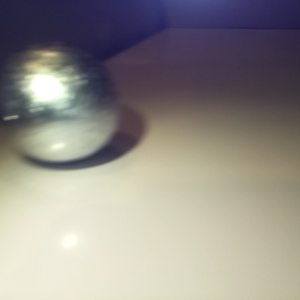alive_ball: (1, 41, 121, 163)
